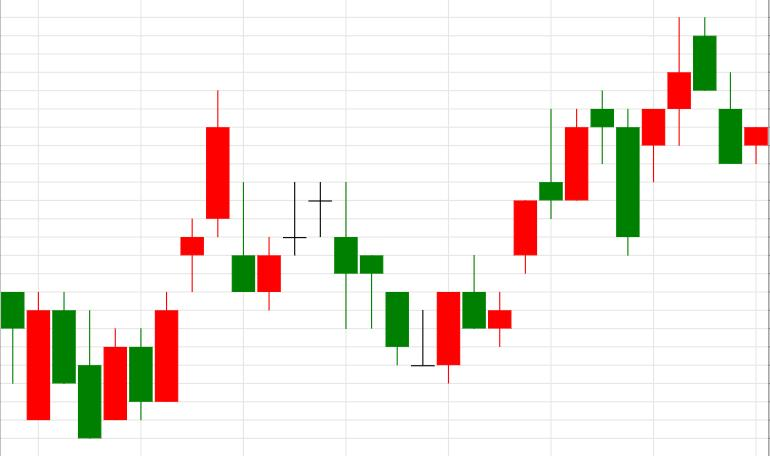evening_star_fall: (412, 91, 639, 384)
